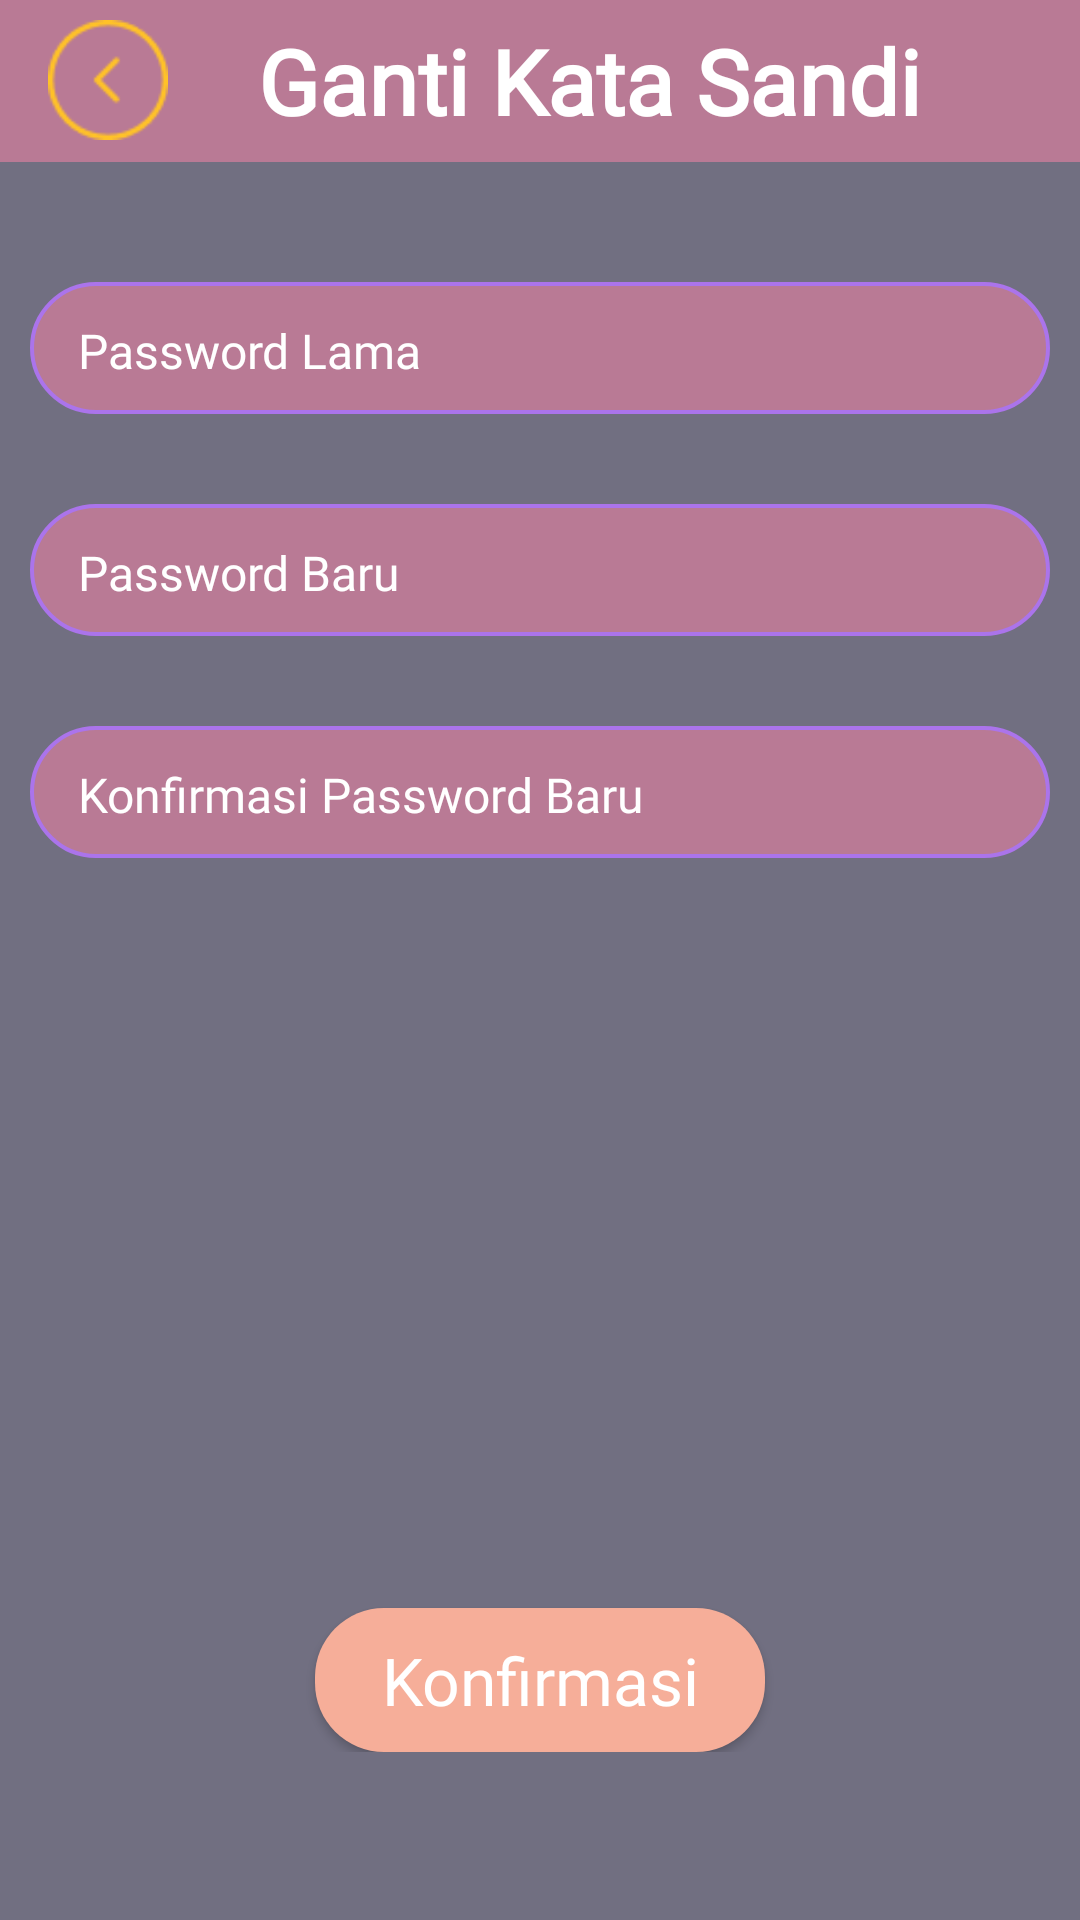

Where to tap for icons on this 1080*1920 app screen, as [x,y]:
back: [108,80]
